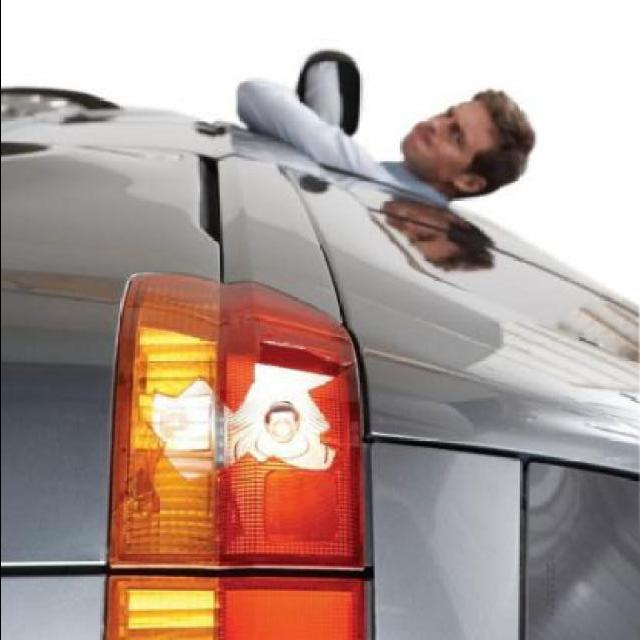Signlight-Damage: (103, 278, 227, 574)
Taillight-Damage: (92, 262, 384, 635)
